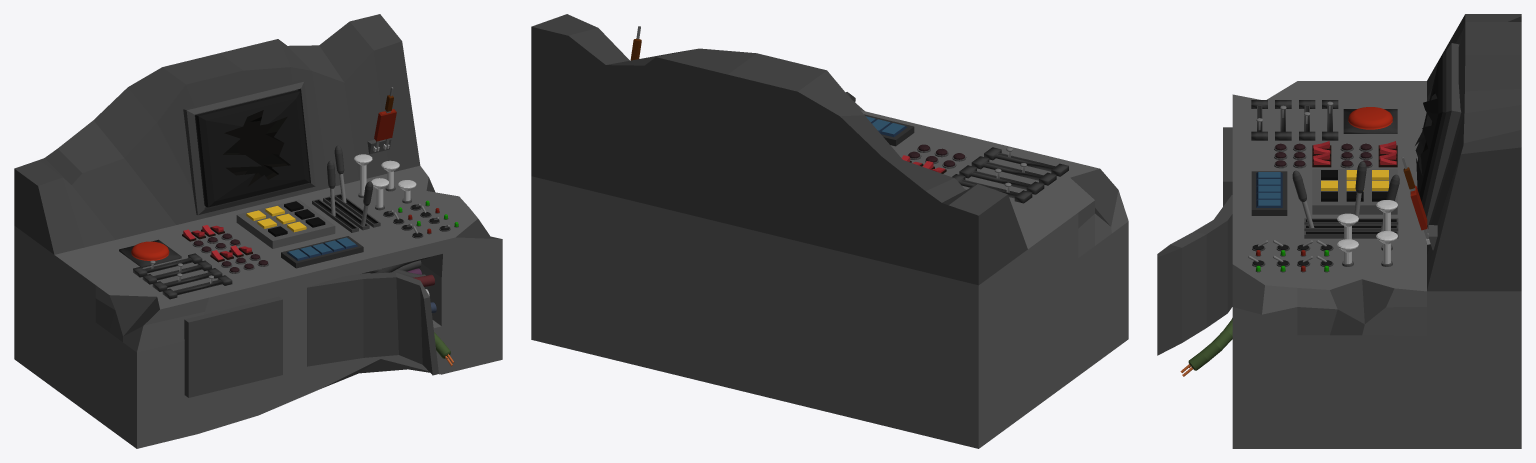
File: mesa quebrada 1.fbx
3 views of the same model, side by side, from view 1: azimuth 30°, elevation 25°; view 2: azimuth 150°, elevation 25°; view 3: azimuth 270°, elevation 25° (orthographic). The views are drawn at different scales.
Visible parts, largest first — view 1: Mesa_Quebrada, Monitor Quadrado.002, Tampa.005, Pad.001, Sequencia.001, Botao Grande.001, Alavanca_2.001, Alavanca_3.001, Alavanca_2.003, Alavanca_2.002, Slider.003, Slider.001 (+2 smaller); view 2: Mesa_Quebrada, Sequencia.001, Slider.002, Slider.001, Slider.003; view 3: Mesa_Quebrada, Monitor Quadrado.002, Pad.001, Sequencia.001, Botao Grande.001, Alavanca_2.002, Alavanca_2.001, Fio.001, Alavanca_2.003, Tampa.005, Alavanca_3.001, Slider.003 (+6 smaller).
Boxes of the visible parts, left/top/right/bottom form: Mesa_Quebrada: left=14, top=14, right=502, bottom=448; Monitor Quadrado.002: left=183, top=80, right=315, bottom=214; Tampa.005: left=184, top=296, right=282, bottom=397; Pad.001: left=236, top=199, right=335, bottom=248; Sequencia.001: left=281, top=236, right=363, bottom=268; Botao Grande.001: left=119, top=239, right=181, bottom=267; Alavanca_2.001: left=312, top=160, right=358, bottom=232; Alavanca_3.001: left=374, top=87, right=396, bottom=149; Alavanca_2.003: left=334, top=145, right=380, bottom=227; Alavanca_2.002: left=323, top=181, right=372, bottom=230; Slider.003: left=162, top=275, right=232, bottom=299; Slider.001: left=142, top=260, right=211, bottom=284; Mesa_Quebrada: left=531, top=14, right=1128, bottom=448; Sequencia.001: left=864, top=114, right=914, bottom=146; Slider.002: left=971, top=156, right=1056, bottom=185; Slider.001: left=959, top=165, right=1044, bottom=194; Slider.003: left=984, top=147, right=1068, bottom=176; Mesa_Quebrada: left=1157, top=14, right=1521, bottom=448; Monitor Quadrado.002: left=1415, top=43, right=1461, bottom=224; Pad.001: left=1312, top=169, right=1397, bottom=214; Sequencia.001: left=1251, top=171, right=1287, bottom=215; Botao Grande.001: left=1343, top=107, right=1397, bottom=133; Alavanca_2.002: left=1292, top=170, right=1398, bottom=230; Alavanca_2.001: left=1304, top=161, right=1398, bottom=224; Fio.001: left=1180, top=318, right=1232, bottom=376; Alavanca_2.003: left=1304, top=174, right=1399, bottom=238; Tampa.005: left=1223, top=127, right=1232, bottom=206; Alavanca_3.001: left=1401, top=157, right=1428, bottom=239; Slider.003: left=1251, top=100, right=1267, bottom=140.
Bounding box in the file's own units: 1874 × 1238 × 1355.
